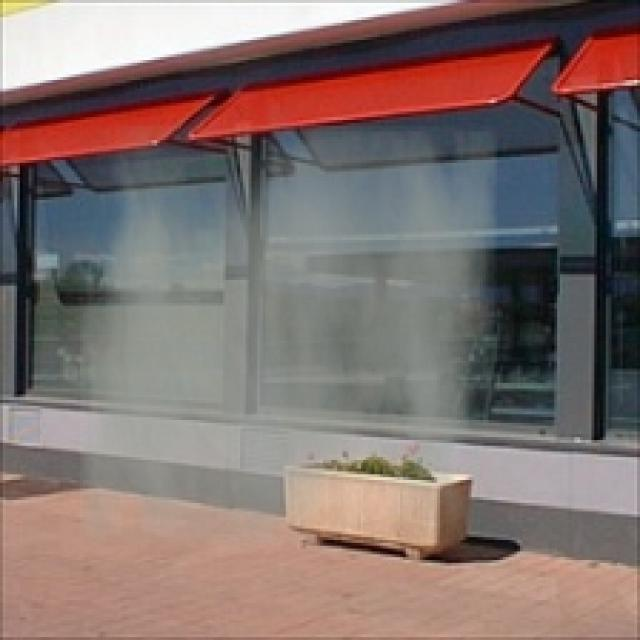Smoke: (80, 125, 497, 546)
